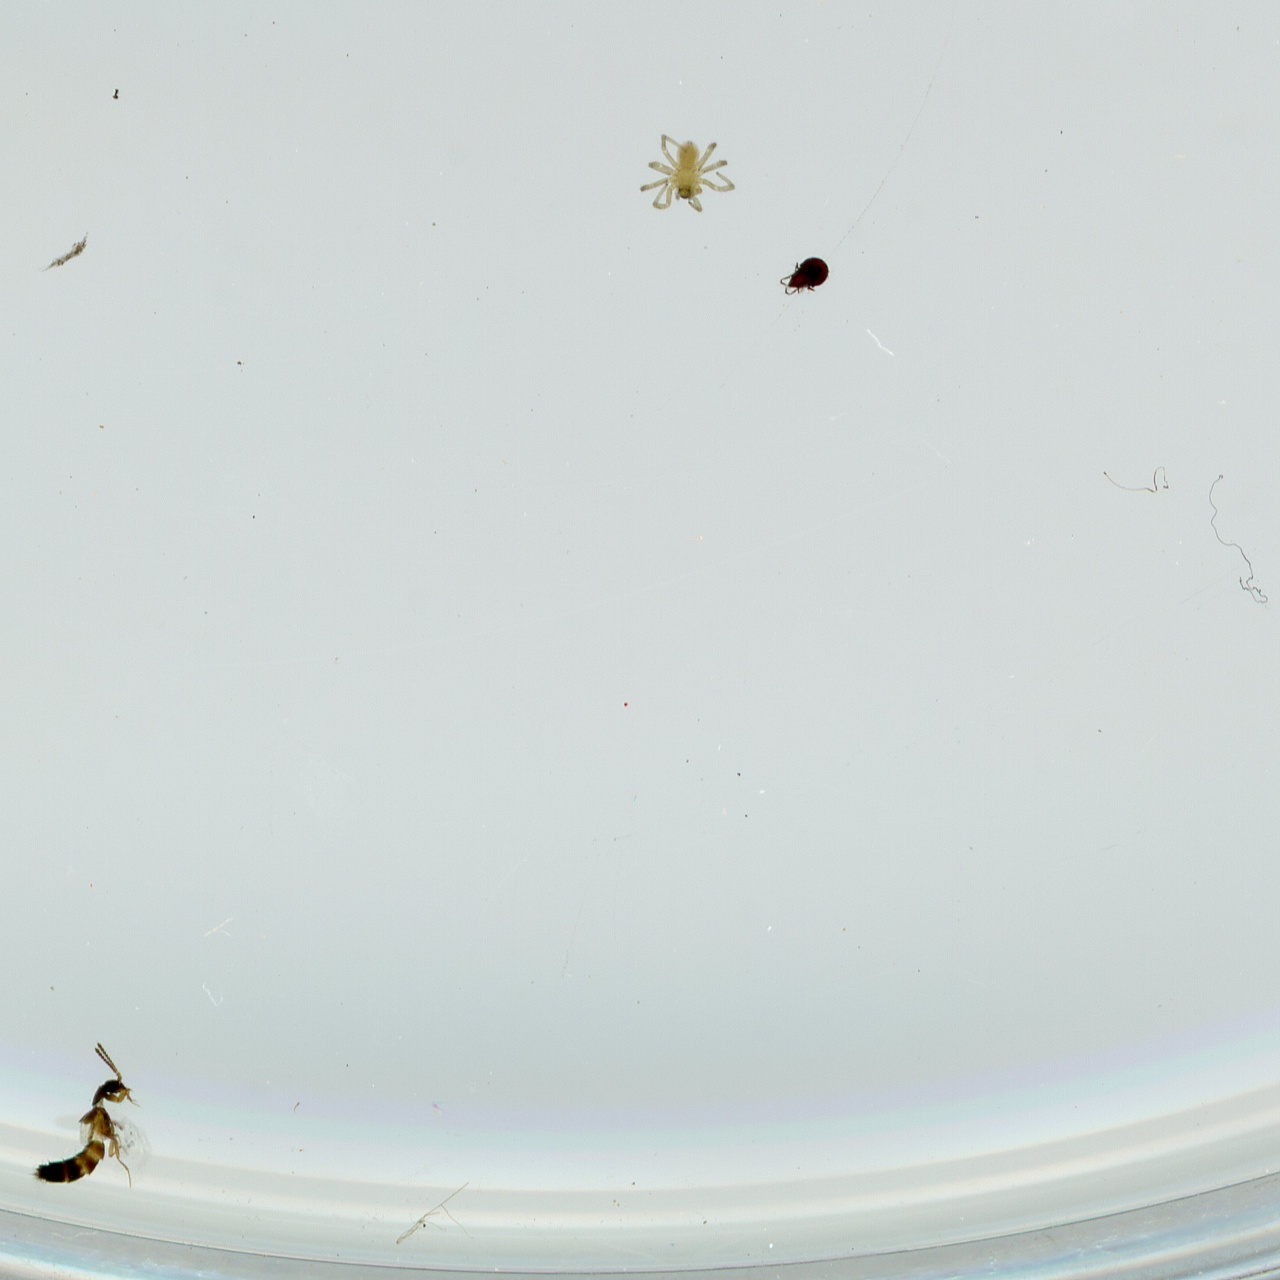arthropod: (27, 1033, 141, 1197), (633, 132, 742, 215), (776, 252, 833, 300)
